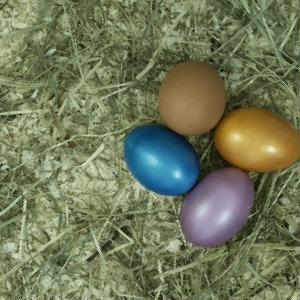egg: (180, 168, 255, 248), (215, 108, 300, 173), (125, 126, 200, 195), (160, 62, 226, 137)
